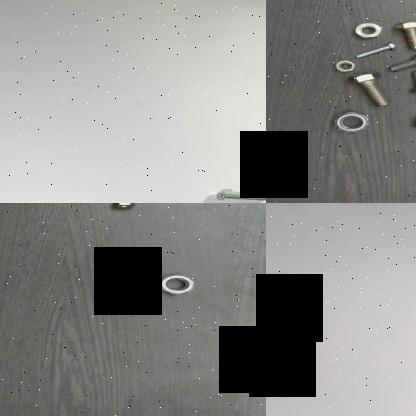Bolts: (348, 72, 388, 110), (208, 186, 266, 203), (398, 14, 416, 52), (382, 54, 416, 72), (354, 43, 394, 58), (406, 70, 416, 94)
NUTS: (326, 111, 374, 135), (151, 274, 199, 296), (351, 21, 385, 39), (105, 203, 139, 213), (408, 114, 416, 130)
